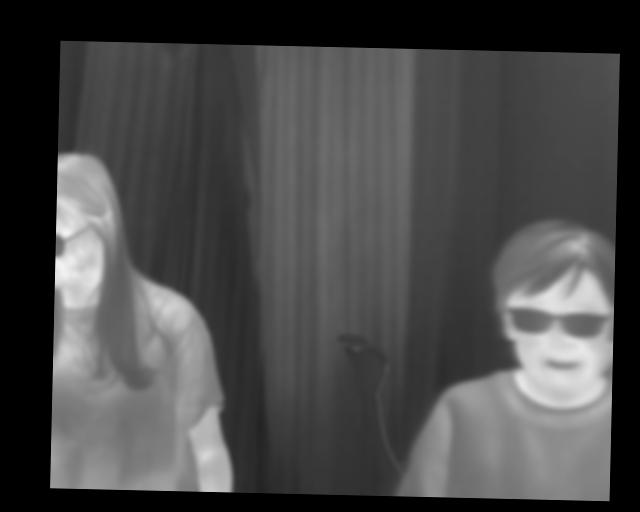face: (491, 218, 615, 395)
